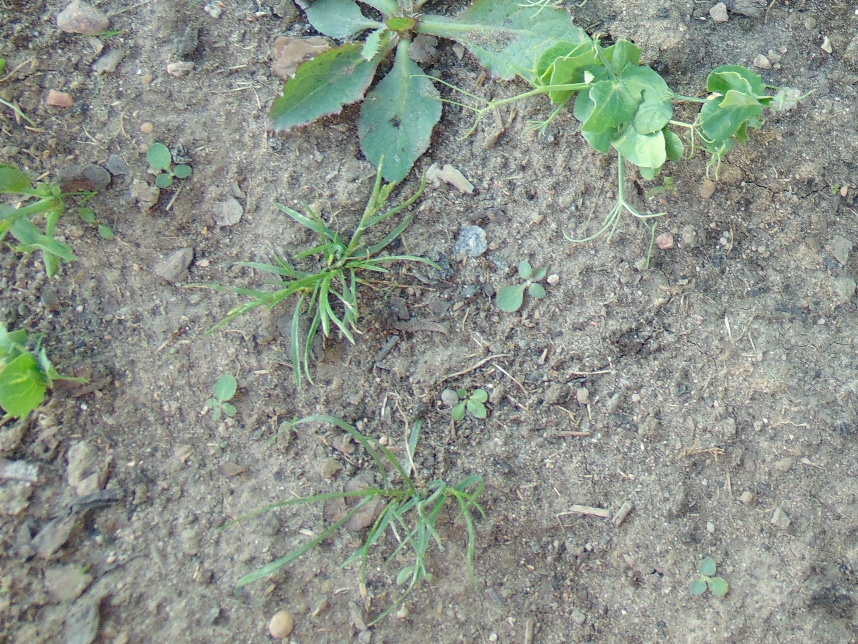crop: (482, 44, 774, 232), (1, 319, 89, 421), (1, 163, 78, 277)
weed: (274, 1, 549, 168), (256, 218, 404, 358), (327, 422, 475, 562), (495, 260, 549, 310), (141, 139, 191, 189), (206, 372, 238, 421), (692, 558, 727, 598), (453, 383, 488, 423)
